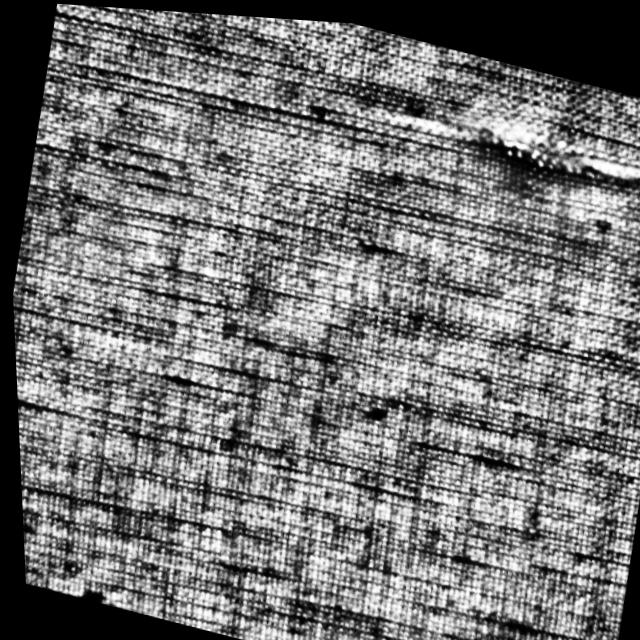Stitch: (435, 92, 640, 225)
